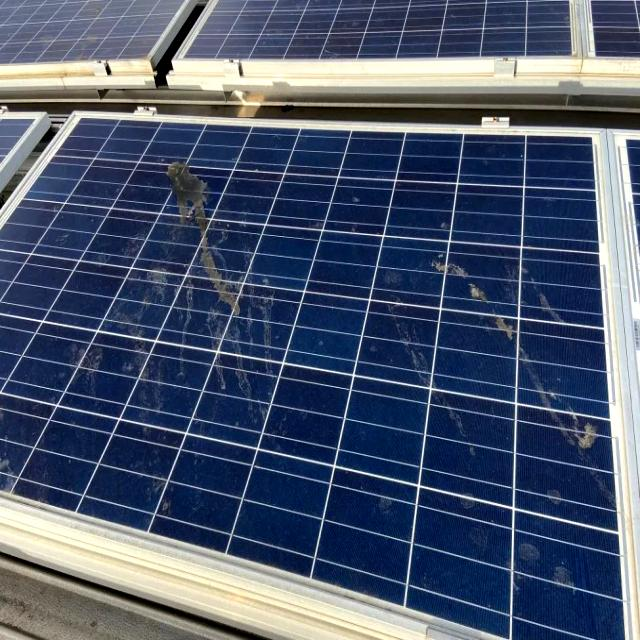bird: (440, 247, 604, 455), (160, 152, 256, 338)
